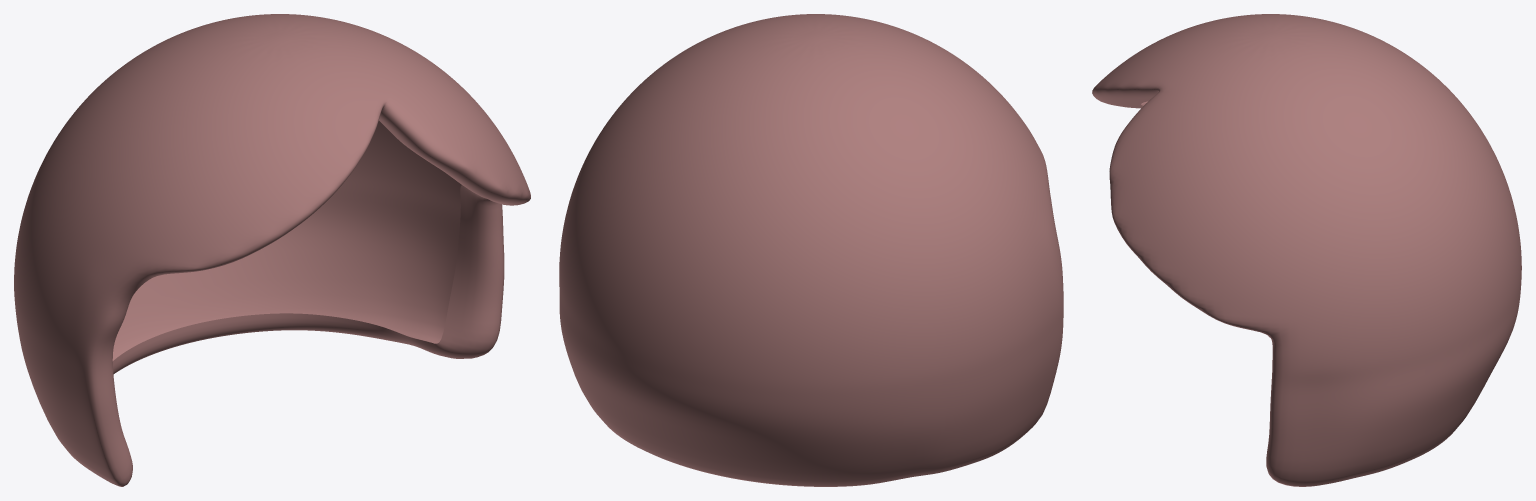
File: Mother_Hair.fbx
3 renders of one model, left to right at view 1: azimuth 30°, elevation 25°; view 2: azimuth 150°, elevation 25°; view 3: azimuth 270°, elevation 25°, orthographic. The views are drawn at different scales.
Visible parts, largest first — view 1: Mum_Hair_Smooth; view 2: Mum_Hair_Smooth; view 3: Mum_Hair_Smooth.
Boxes of the visible parts, x1=… form: Mum_Hair_Smooth: x1=14, y1=14, x2=530, y2=486; Mum_Hair_Smooth: x1=559, y1=14, x2=1063, y2=486; Mum_Hair_Smooth: x1=1092, y1=14, x2=1521, y2=486.
Bounding box in the file's own units: 1.6 × 1.27 × 1.38.
